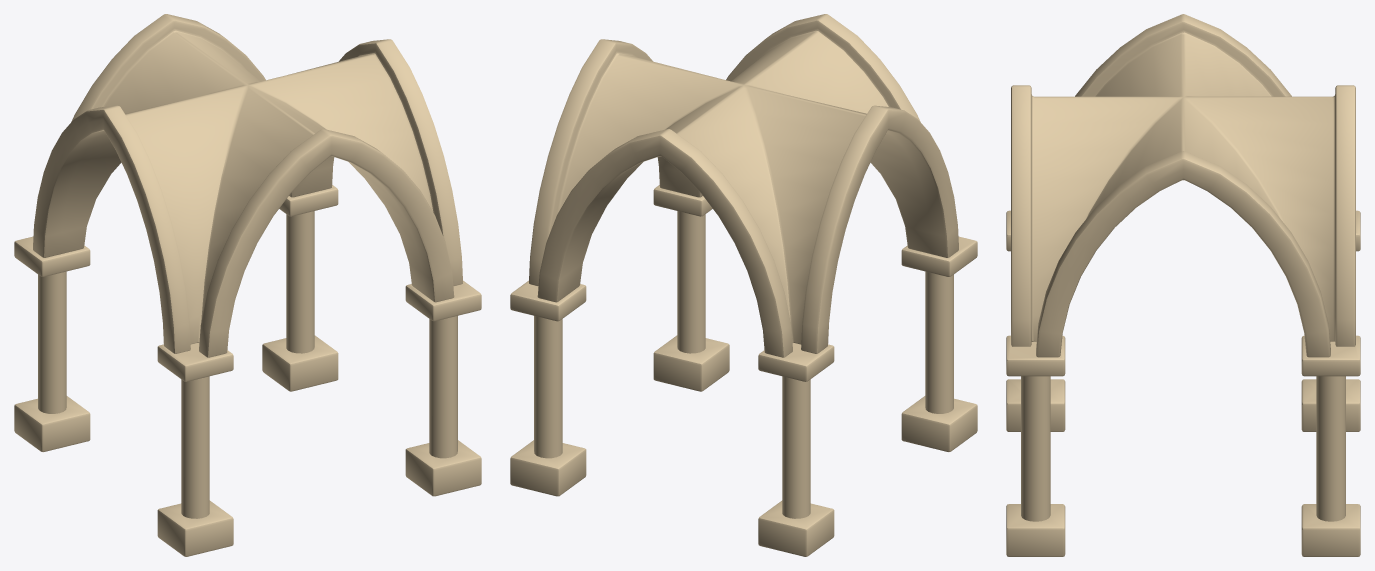
File: 08390fe9-dffa-45d3-85c9-4713a2fd4a3c.glb
The picture shows the model from 3 angles, left to right: view 1: azimuth 30°, elevation 25°; view 2: azimuth 150°, elevation 25°; view 3: azimuth 270°, elevation 25°; orthographic projection. The views are drawn at different scales.
Parts seen in each view (by area): view 1: UEFN_GothicStyle_Gazebo; view 2: UEFN_GothicStyle_Gazebo; view 3: UEFN_GothicStyle_Gazebo.
Part boxes in pixels (x1,y1,x2,y2): UEFN_GothicStyle_Gazebo: (14, 14, 481, 556); UEFN_GothicStyle_Gazebo: (510, 14, 977, 556); UEFN_GothicStyle_Gazebo: (1006, 14, 1360, 556).
Size of what is drawn, in the model's own units: 5.26 by 6.51 by 5.26.
Materials: 1 (1 with a texture image).
